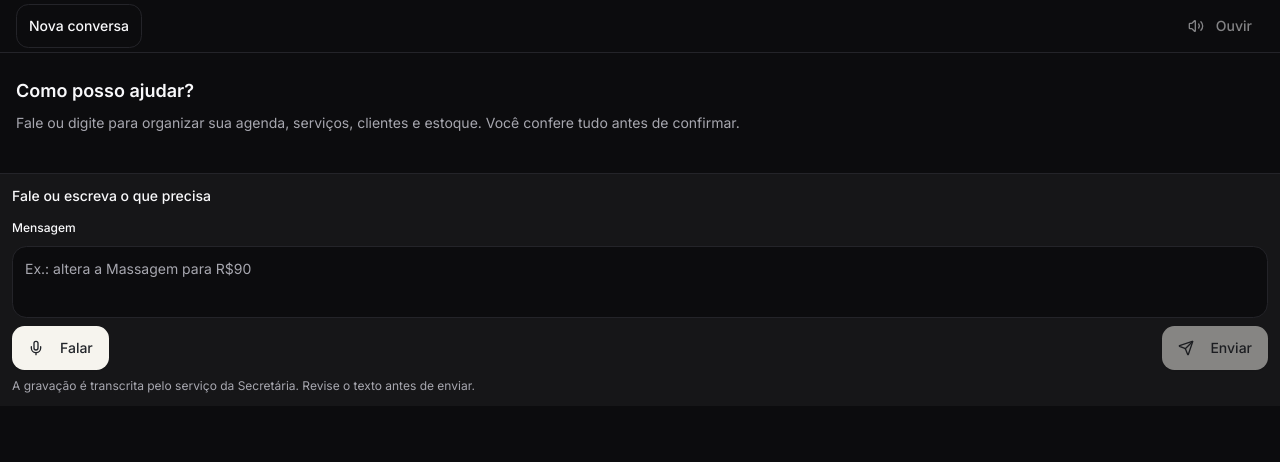
Scenario: recorder path of GPT transcription (SALON_SECRETARY_TRANSCRIBE_ENABLED) › records, transcribes through the server action and fills the input box without sending; the browser recognizer is not used
The image size is (1280, 462).
Check: the text "A gravação é transcrita pelo serviço da Secretária. Revise o texto antes de enviar." is shown, box [12,378,475,393]
Click the button with aria-label "Falar com a Secretária". click: click(60, 348)
box: [12,326,109,370]
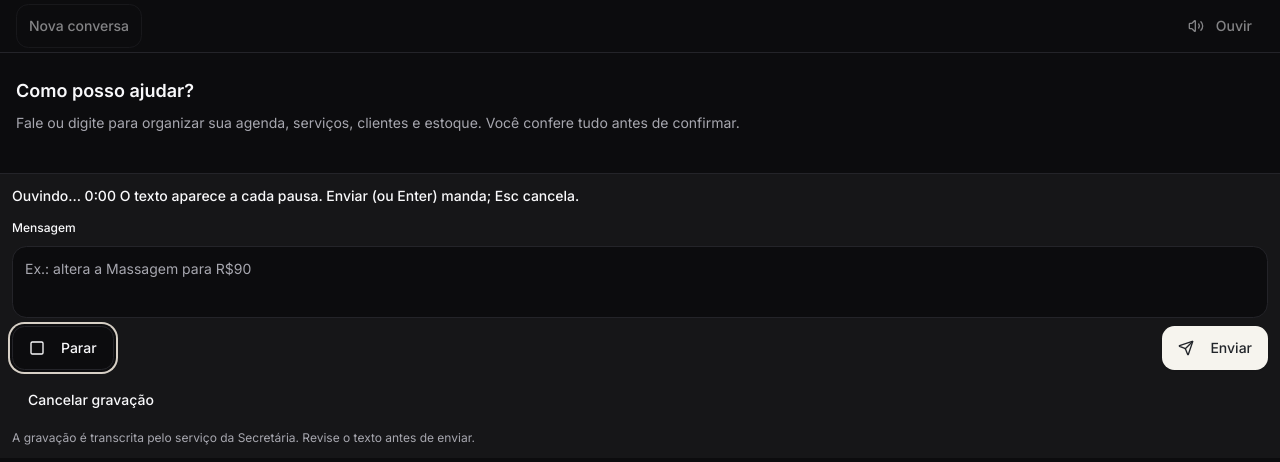
Check: the message shows "Ouvindo", box [12,187,579,204]
Click the button with aria-label "Parar gravação". click: click(63, 348)
box: [12,326,114,370]
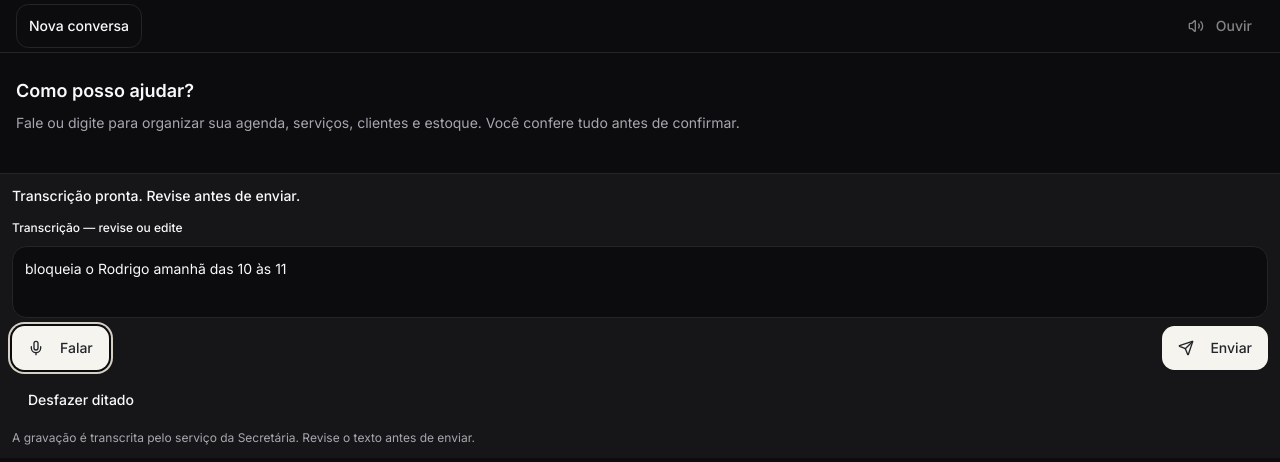
Check: the text box named "Mensagem" holds "bloqueia o Rodrigo amanhã das 10 às 11", box [12,246,1268,318]
Check: the message reads "Transcrição pronta. Revise antes de enviar.", box [12,187,300,204]
